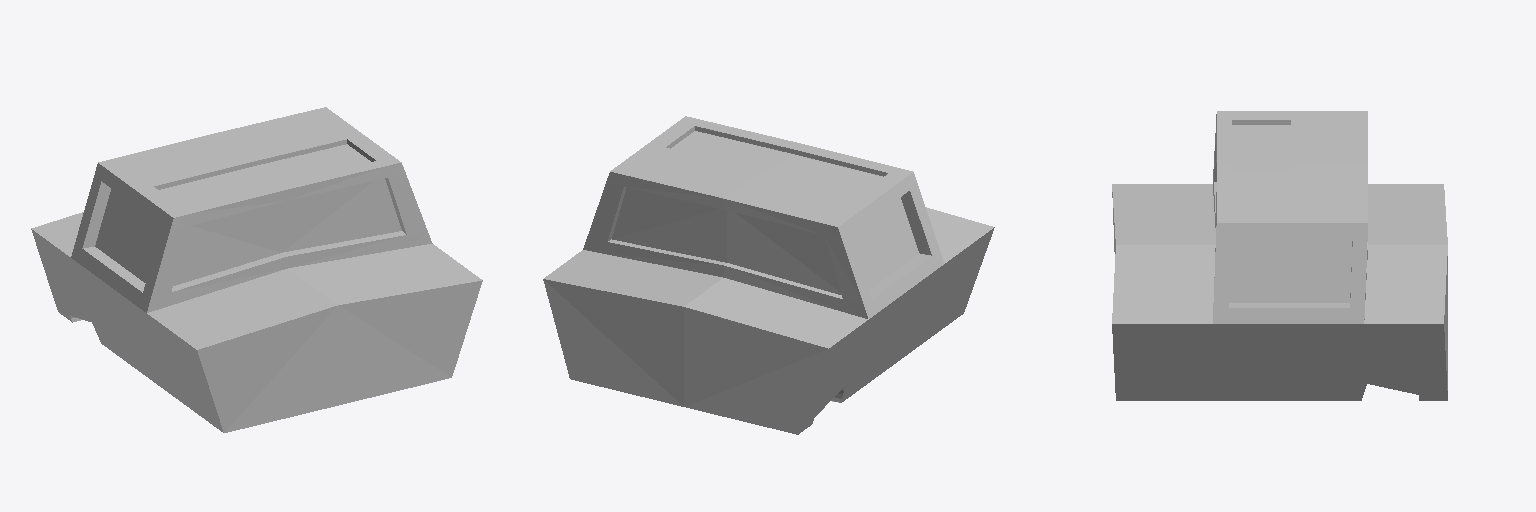
Rendered from car.obj.
The picture shows the model from 3 angles: view 1: azimuth 30°, elevation 25°; view 2: azimuth 150°, elevation 25°; view 3: azimuth 270°, elevation 25°; orthographic projection.
Parts seen in each view (by area): view 1: Cube_Cube.003; view 2: Cube_Cube.003; view 3: Cube_Cube.003.
Boxes of the visible parts, x1,y1,x2,y2 form: Cube_Cube.003: [31, 107, 482, 432]; Cube_Cube.003: [543, 116, 994, 434]; Cube_Cube.003: [1112, 111, 1447, 400].
Size of the model in its own units: 5.96 by 3.57 by 6.07.